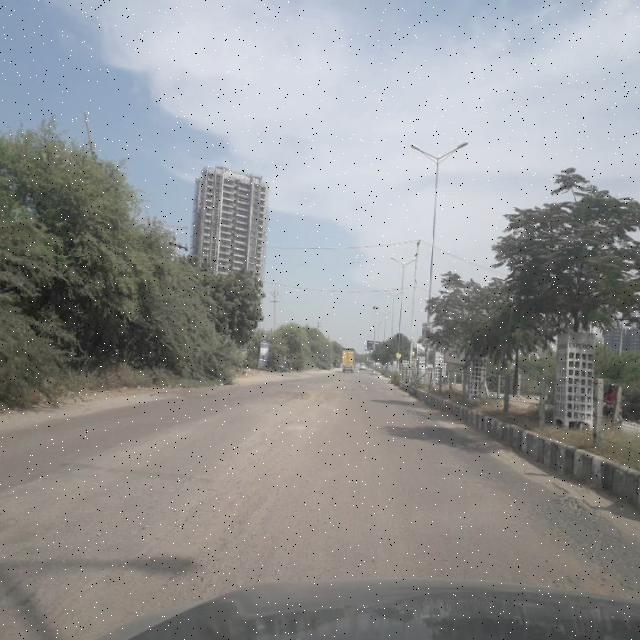D20: (400, 442, 631, 584)
D40: (193, 480, 280, 589), (532, 532, 628, 594), (244, 378, 334, 412), (273, 415, 314, 438)
